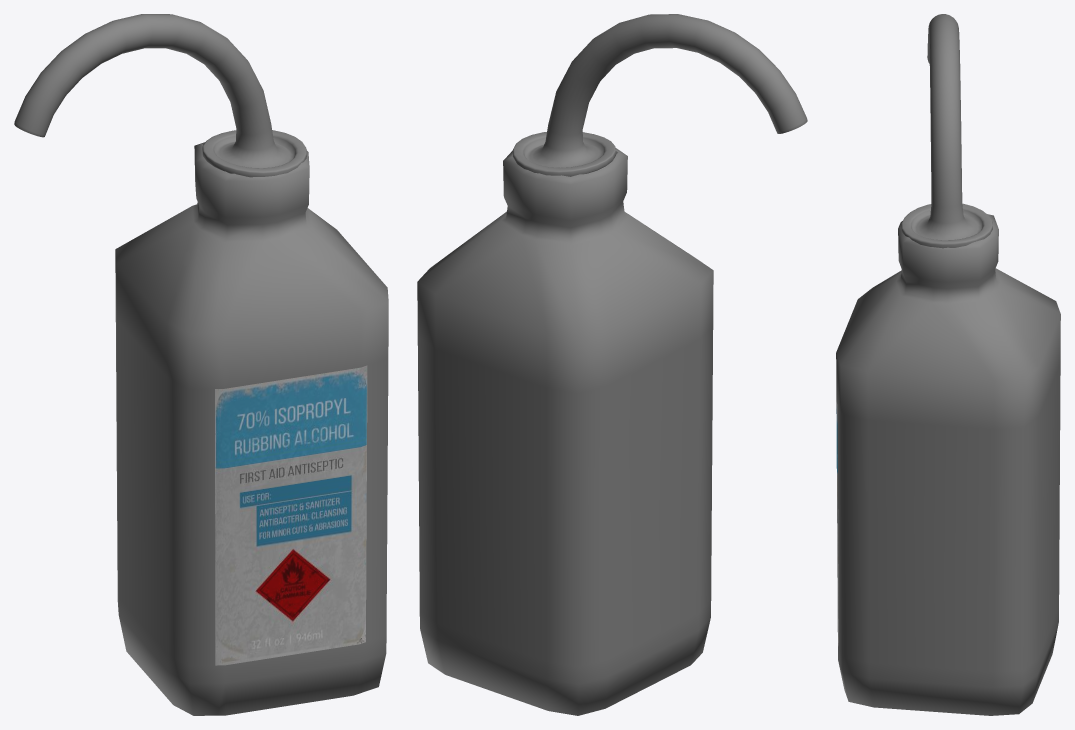
File: SPIRIT BOTTLE 2.fbx
The picture shows the model from 3 angles, left to right: view 1: azimuth 30°, elevation 25°; view 2: azimuth 150°, elevation 25°; view 3: azimuth 270°, elevation 25°; orthographic projection. The views are drawn at different scales.
Parts seen in each view (by area): view 1: object_1, dropper; view 2: object_1, dropper; view 3: object_1, dropper.
Boxes of the visible parts, x1,y1,x2,y2 form: object_1: (115,142,388,715); dropper: (14,14,306,177); object_1: (417,148,713,715); dropper: (512,14,807,176); object_1: (836,214,1060,715); dropper: (901,14,992,248).
Bounding box in the file's own units: 60.82 × 112 × 38.59.
